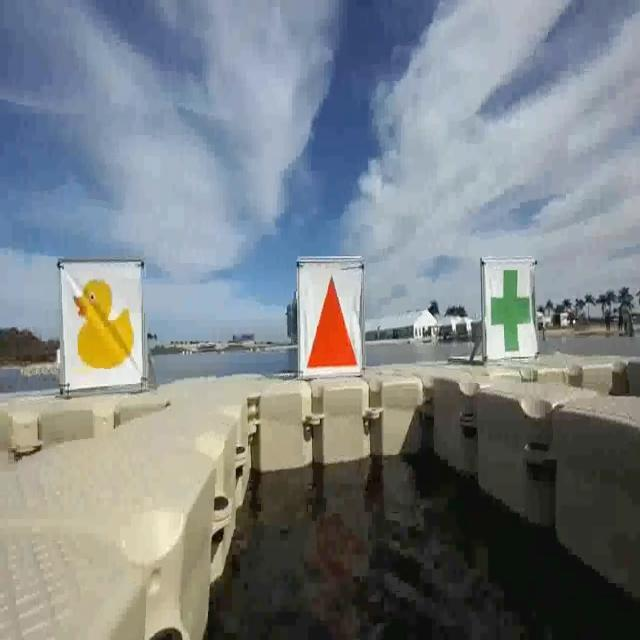blue-cross: (482, 256, 540, 359)
red-dot: (299, 267, 360, 376)
yellow-duck: (75, 275, 135, 370)
